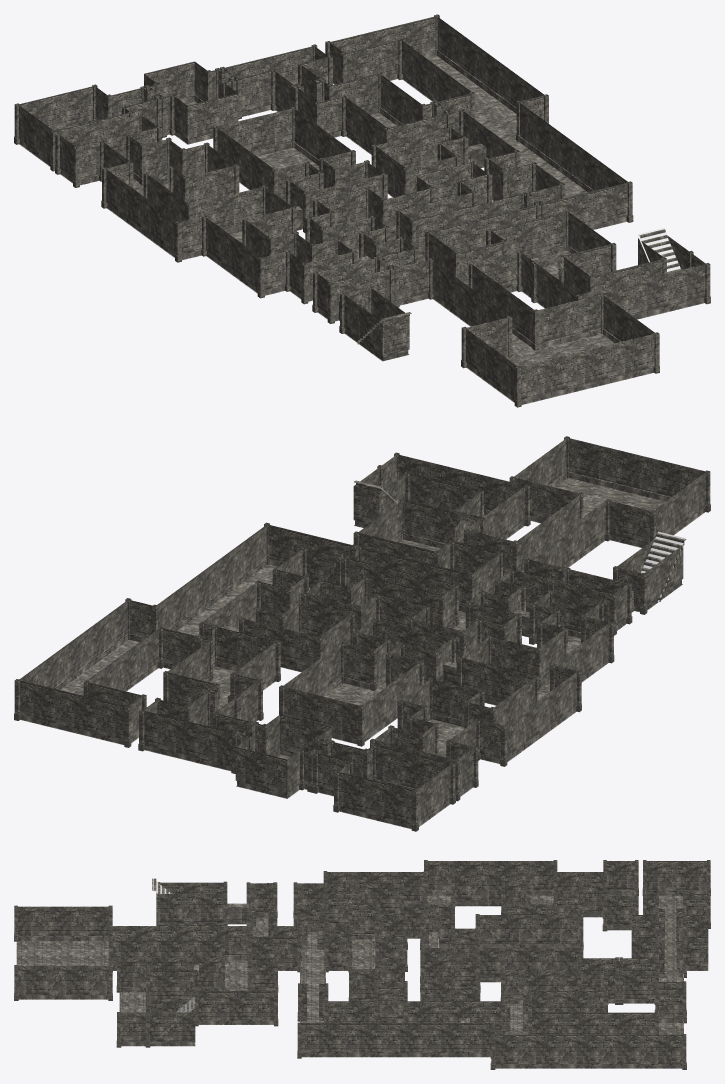
File: 002_zennkiseisaku_meiro2_01_06.fbx
3 views of the same model, one above another, from view 1: azimuth 30°, elevation 25°; view 2: azimuth 150°, elevation 25°; view 3: azimuth 270°, elevation 25° (orthographic). The views are drawn at different scales.
Visible parts, largest first — view 1: Bip001, オブジェクト028, オブジェクト; view 2: Bip001, オブジェクト028, オブジェクト, Line006; view 3: Bip001, オブジェクト028, オブジェクト.
Boxes of the visible parts, left/top/right/bottom form: Bip001: left=18, top=16, right=706, bottom=404; オブジェクト028: left=14, top=14, right=710, bottom=407; オブジェクト: left=21, top=55, right=687, bottom=404; Bip001: left=18, top=437, right=706, bottom=828; オブジェクト028: left=14, top=436, right=710, bottom=831; オブジェクト: left=23, top=478, right=700, bottom=827; Line006: left=641, top=532, right=686, bottom=601; Bip001: left=16, top=861, right=708, bottom=1068; オブジェクト028: left=14, top=860, right=710, bottom=1069; オブジェクト: left=17, top=895, right=682, bottom=1068.
Bounding box in the file's own units: 869 × 88.73 × 1456.
Materials: 1 (1 with a texture image).
